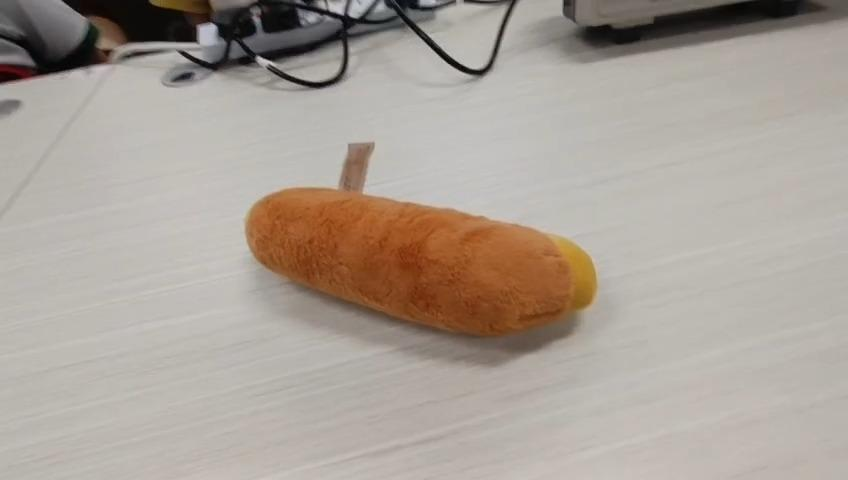hotdog: (244, 186, 597, 334)
